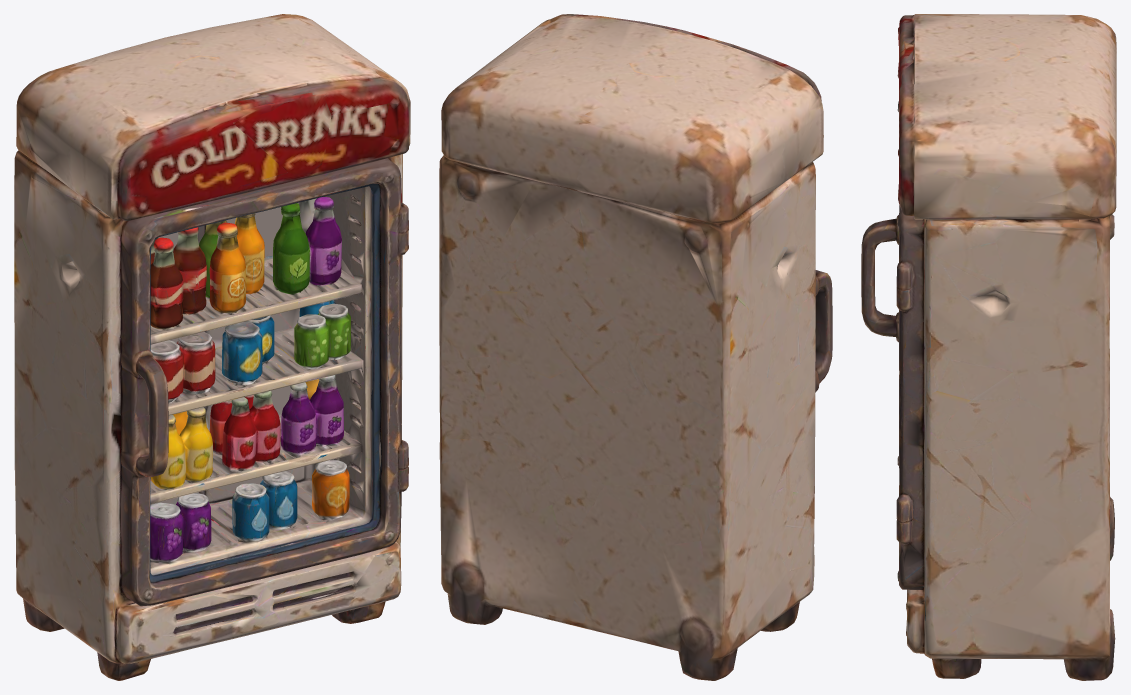
File: d_fridge.glb
3 views of the same model, side by side, from view 1: azimuth 30°, elevation 25°; view 2: azimuth 150°, elevation 25°; view 3: azimuth 270°, elevation 25° (orthographic). The views are drawn at different scales.
Bounding box in the file's own units: 1.06 × 1.9 × 0.7899.
1 material, 1 textured.
